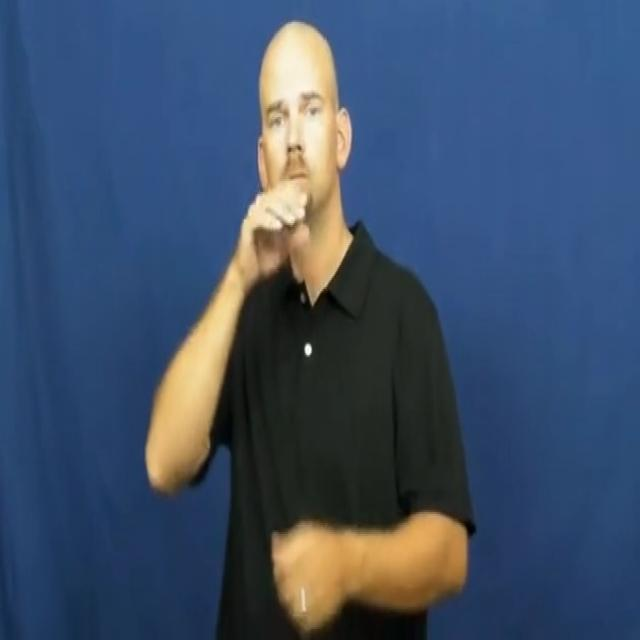soda: (234, 168, 316, 286)
